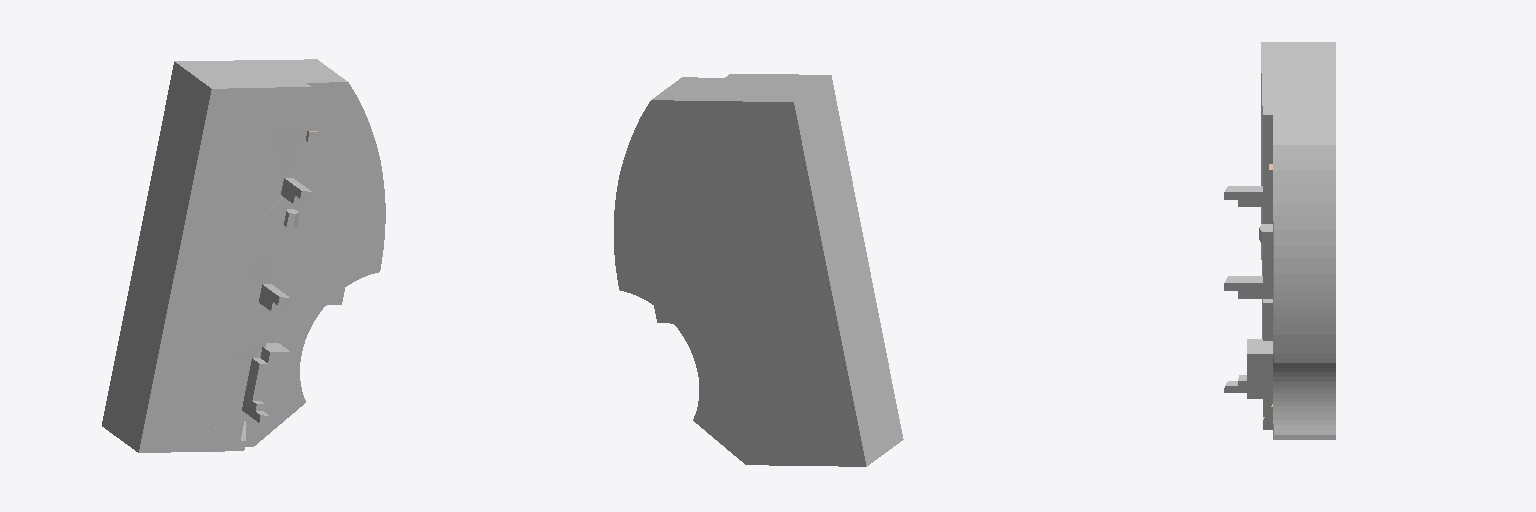
File: talo_Build0000076.obj
3 views of the same model, side by side, from view 1: azimuth 30°, elevation 25°; view 2: azimuth 150°, elevation 25°; view 3: azimuth 270°, elevation 25° (orthographic).
Bounding box in the file's own units: 45.21 × 63.96 × 17.28.